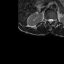CCS_normal: (50, 17, 51, 25)
LFS_normal: (53, 17, 55, 23)
LLS_normal: (51, 17, 53, 23)
RFS_normal: (46, 17, 48, 22)
RLS_normal: (48, 17, 50, 23)
